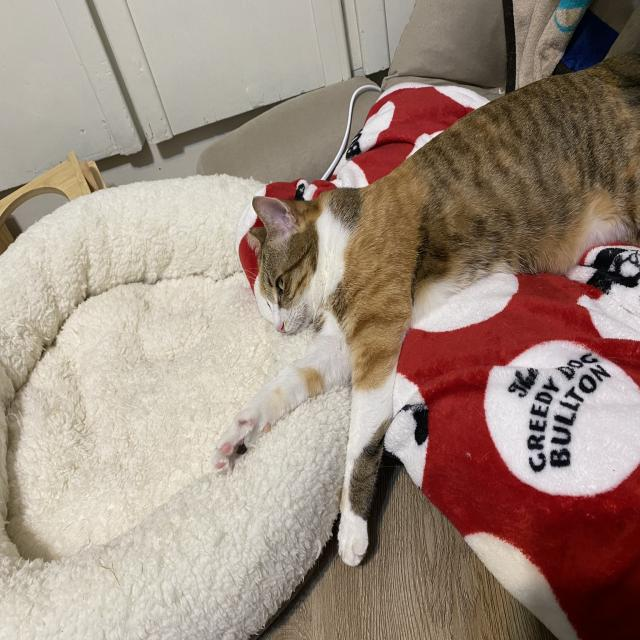cat2: (215, 64, 640, 482)
